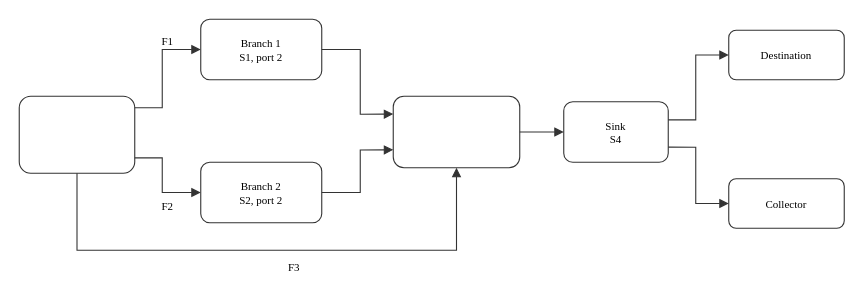
This 864x297 diagram has some shape labels left out. The centre of each missing label's shape, as x and y in pixels:
Shared outlet S3, port 2: the point at 456,131
Source F1, F2, F3: the point at 76,134
